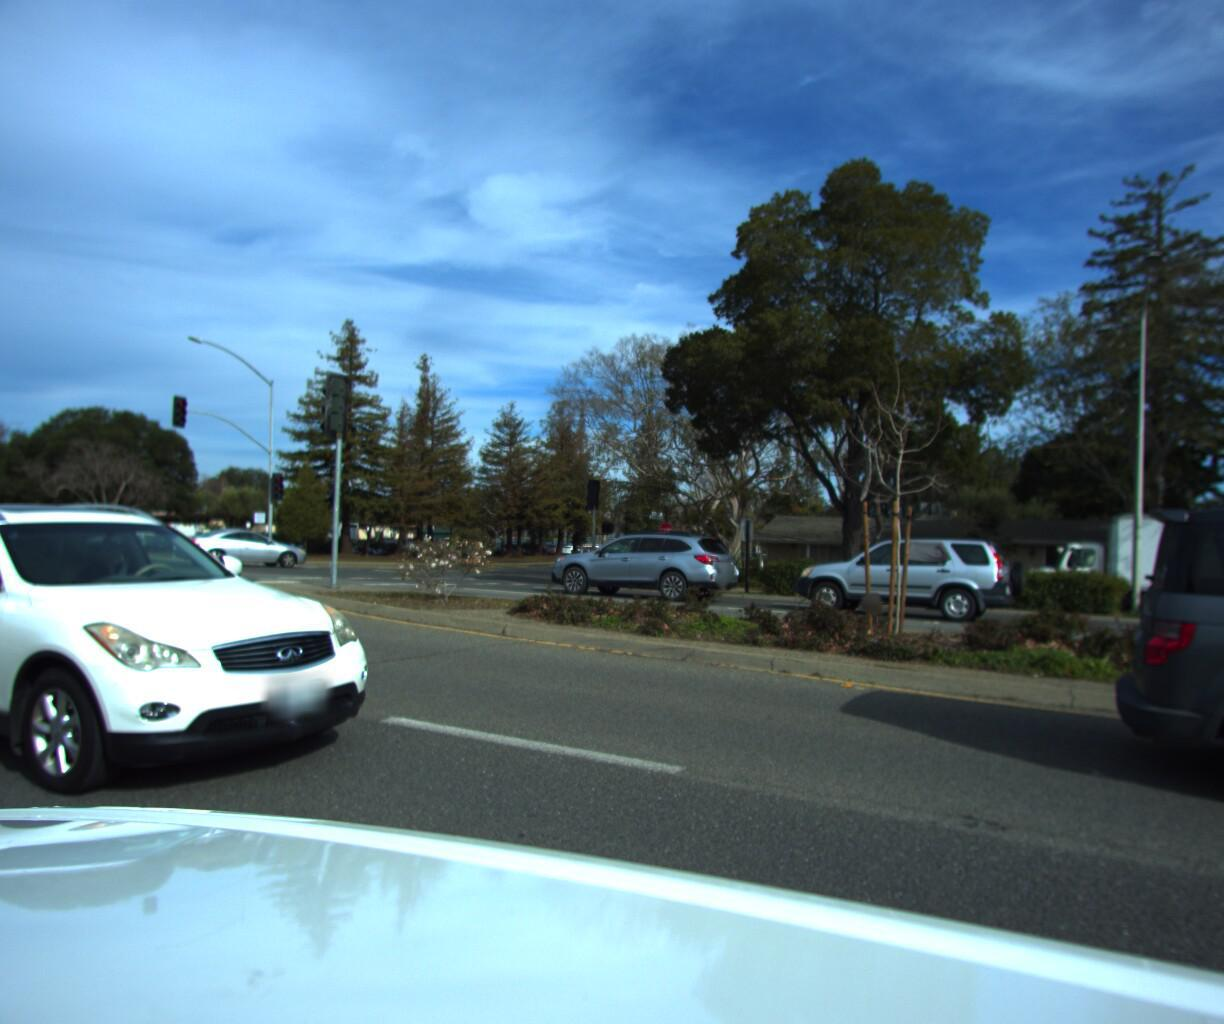car: (0, 491, 430, 837), (1085, 497, 1224, 961), (784, 527, 1035, 628), (531, 522, 750, 607), (0, 507, 57, 613), (174, 523, 310, 566), (0, 514, 26, 545)
truck: (1005, 505, 1224, 629)
